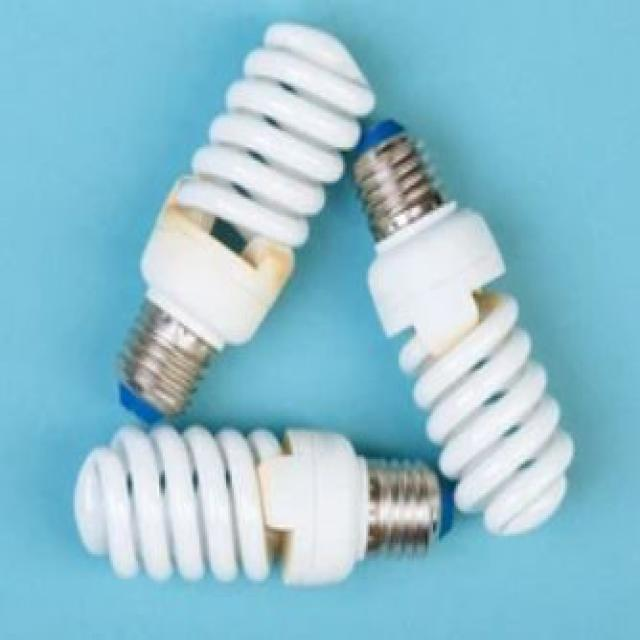electronic: (73, 18, 575, 586), (115, 18, 376, 423), (349, 115, 575, 536), (71, 418, 443, 586)
